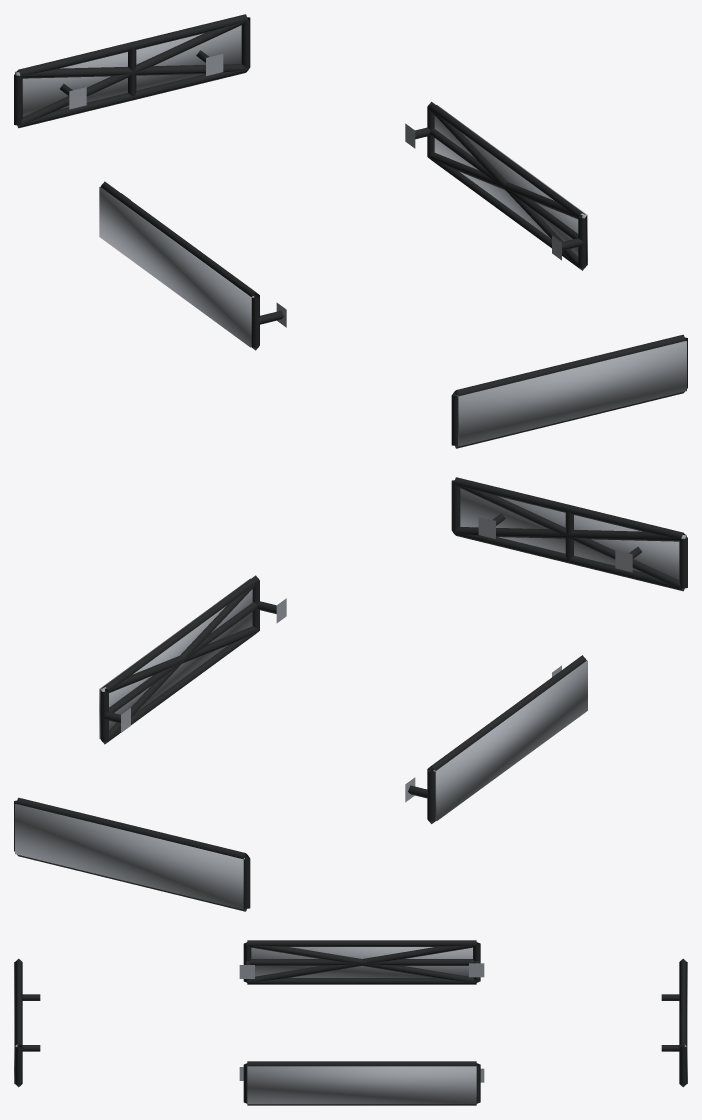
Rendered from hayase_cedro_protecao.glb.
3 views of the same model, one above another, from view 1: azimuth 30°, elevation 25°; view 2: azimuth 150°, elevation 25°; view 3: azimuth 270°, elevation 25° (orthographic). The views are drawn at different scales.
Visible parts, largest first — view 1: Protection_front_Level3_Details, Protection_left_Level3_Details, Protection_rear_Level1_Details, Protection_rear_Level3_Details, Protection_right_Level1_Details, Protection_rear_Level2_Details, Protection_right_Level2_Details, Protection_right_Level3_Details, Protection_front_Level1_Details, Protection_left_Level1_Details; view 2: Protection_rear_Level3_Details, Protection_left_Level3_Details, Protection_front_Level1_Details, Protection_front_Level3_Details, Protection_right_Level1_Details, Protection_front_Level2_Details, Protection_right_Level2_Details, Protection_right_Level3_Details, Protection_rear_Level1_Details, Protection_left_Level1_Details; view 3: Protection_right_Level3_Details, Protection_left_Level2_Details, Protection_left_Level1_Details, Protection_left_Level3_Details, Protection_right_Level1_Details, Protection_rear_Level1_Details, Protection_front_Level1_Details.
Part boxes in pixels (x1,y1,x2,y2): Protection_front_Level3_Details: (457, 341, 686, 446); Protection_left_Level3_Details: (99, 187, 254, 347); Protection_rear_Level1_Details: (14, 14, 250, 128); Protection_rear_Level3_Details: (15, 25, 241, 116); Protection_right_Level1_Details: (405, 102, 586, 270); Protection_rear_Level2_Details: (16, 20, 247, 127); Protection_right_Level2_Details: (427, 108, 585, 270); Protection_right_Level3_Details: (434, 105, 587, 265); Protection_front_Level1_Details: (451, 334, 687, 448); Protection_left_Level1_Details: (100, 181, 286, 350); Protection_rear_Level3_Details: (15, 804, 244, 909); Protection_left_Level3_Details: (433, 660, 587, 820); Protection_front_Level1_Details: (451, 477, 687, 591); Protection_front_Level3_Details: (460, 488, 686, 579); Protection_right_Level1_Details: (100, 575, 286, 744); Protection_front_Level2_Details: (454, 483, 685, 590); Protection_right_Level2_Details: (101, 581, 259, 743); Protection_right_Level3_Details: (99, 578, 252, 738); Protection_rear_Level1_Details: (14, 797, 250, 911); Protection_left_Level1_Details: (405, 655, 586, 823); Protection_right_Level3_Details: (247, 1066, 476, 1104); Protection_left_Level2_Details: (247, 942, 476, 982); Protection_left_Level1_Details: (239, 940, 484, 984); Protection_left_Level3_Details: (251, 947, 472, 977); Protection_right_Level1_Details: (239, 1061, 484, 1105); Protection_rear_Level1_Details: (661, 958, 686, 1087); Protection_front_Level1_Details: (15, 958, 40, 1087).
Size of the model in its own units: 2.13 by 0.354 by 4.85.
Materials: 1 (1 with a texture image).
